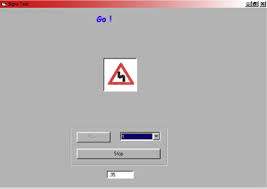Double_bend_left: (104, 59, 137, 87)
